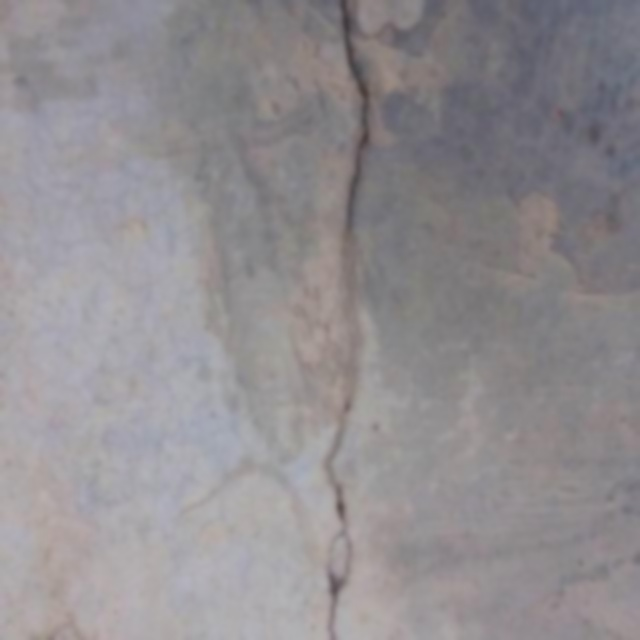SurfaceCrack: (266, 0, 398, 640)
